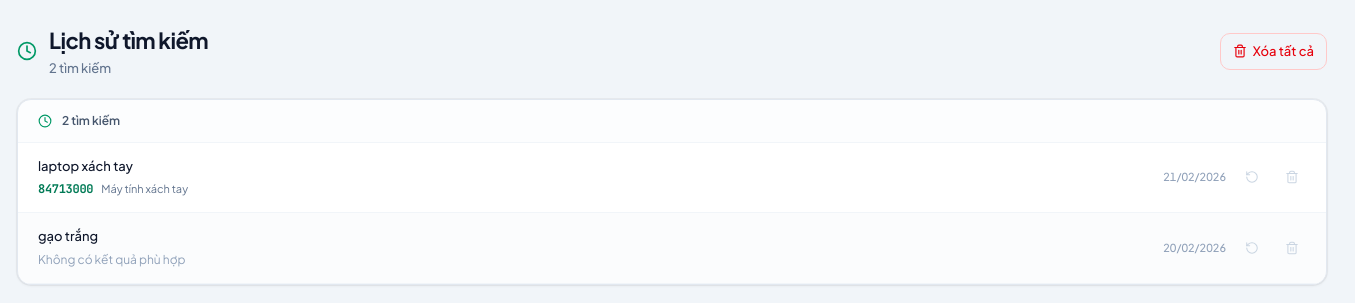
HistoryPage › clicking delete on single item removes it from list
The width and height of the screenshot is (1355, 303).
Check: the text "laptop xách tay" is shown, box [38,158,133,174]
Find all delete buttons and click the first one
Step 1. Click the 1st button named "Xóa khỏi lịch sử" → [1292, 177], box [1278,163,1306,191]
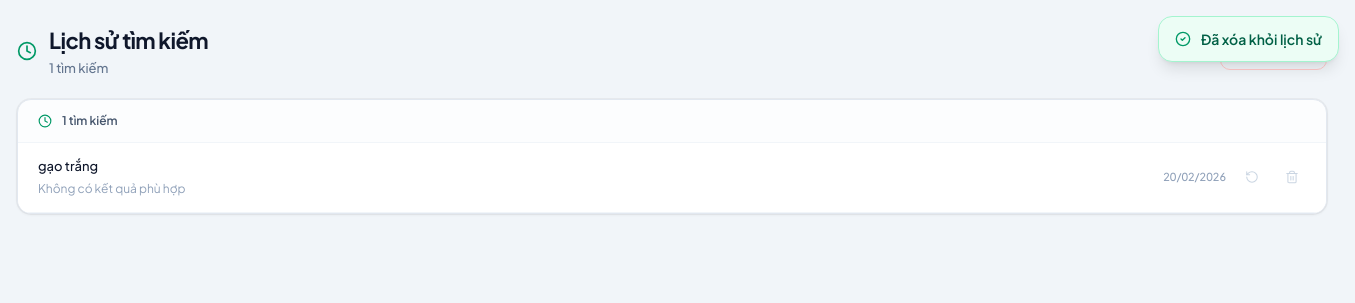
Check: the button "laptop xách tay" is gone
